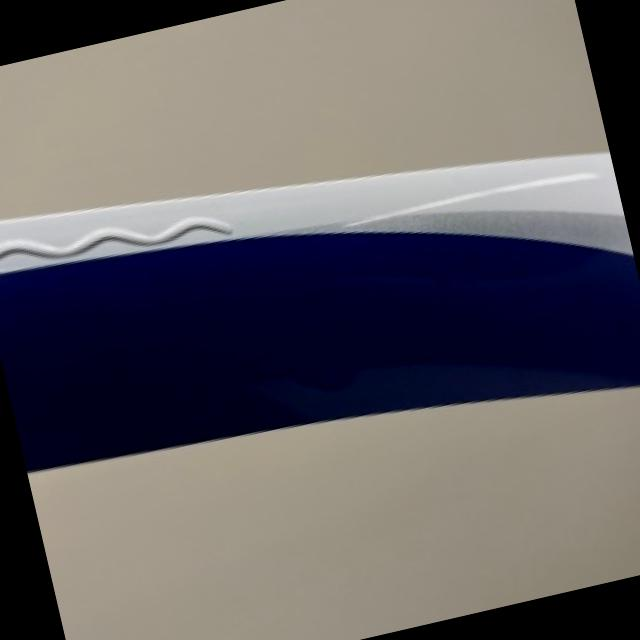healthy: (0, 149, 640, 640)
